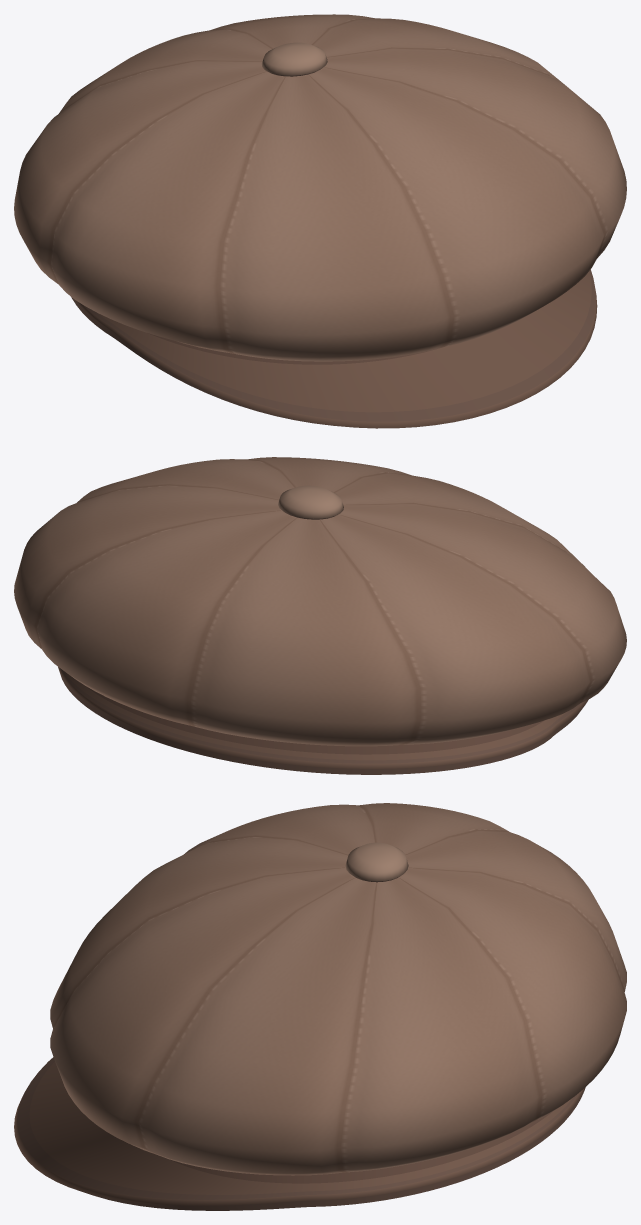
Rendered from wear-hat-newsboy-walnut.glb.
3 views of the same model, one above another, from view 1: azimuth 30°, elevation 25°; view 2: azimuth 150°, elevation 25°; view 3: azimuth 270°, elevation 25° (orthographic). The views are drawn at different scales.
Visible parts, largest first — view 1: wear-hat; view 2: wear-hat; view 3: wear-hat.
Part boxes in pixels (<box>): wear-hat: <box>14,14,626,428</box>; wear-hat: <box>14,457,626,774</box>; wear-hat: <box>14,803,626,1210</box>.
Size of the model in its own units: 0.5952 by 0.2644 by 0.5328.
1 material, 1 textured.
